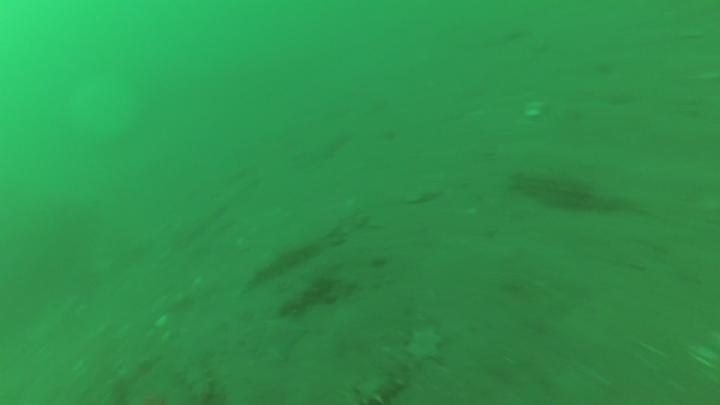holothurian: (245, 239, 319, 289), (510, 172, 596, 211), (273, 266, 349, 310), (350, 365, 405, 405), (181, 363, 218, 403)
starfish: (259, 322, 304, 364), (405, 327, 448, 366)
